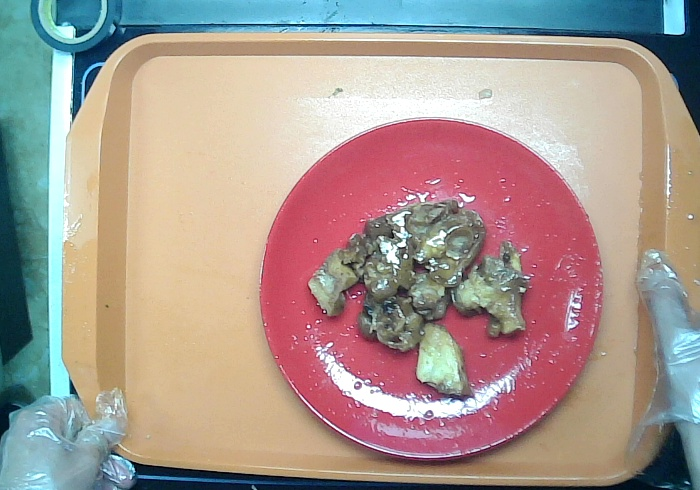HZYJPL-Hong_Se_Yuan_Pan: (258, 114, 606, 463)
